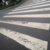zebra: (1, 1, 49, 49)
